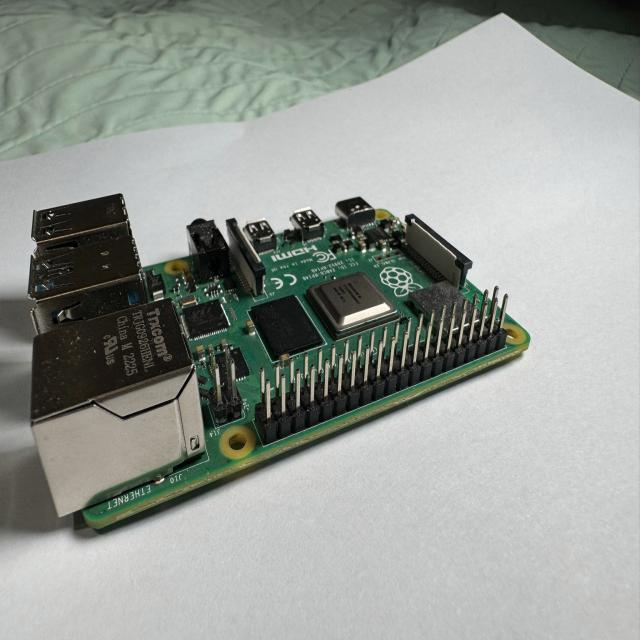CPU: (305, 274, 406, 342)
Ethernet: (29, 298, 205, 519)
GPIO: (249, 284, 508, 449), (244, 213, 278, 257)
RAM: (249, 291, 336, 364)
Raspberry: (27, 195, 532, 539)
micro-hdmi: (292, 202, 329, 248)
